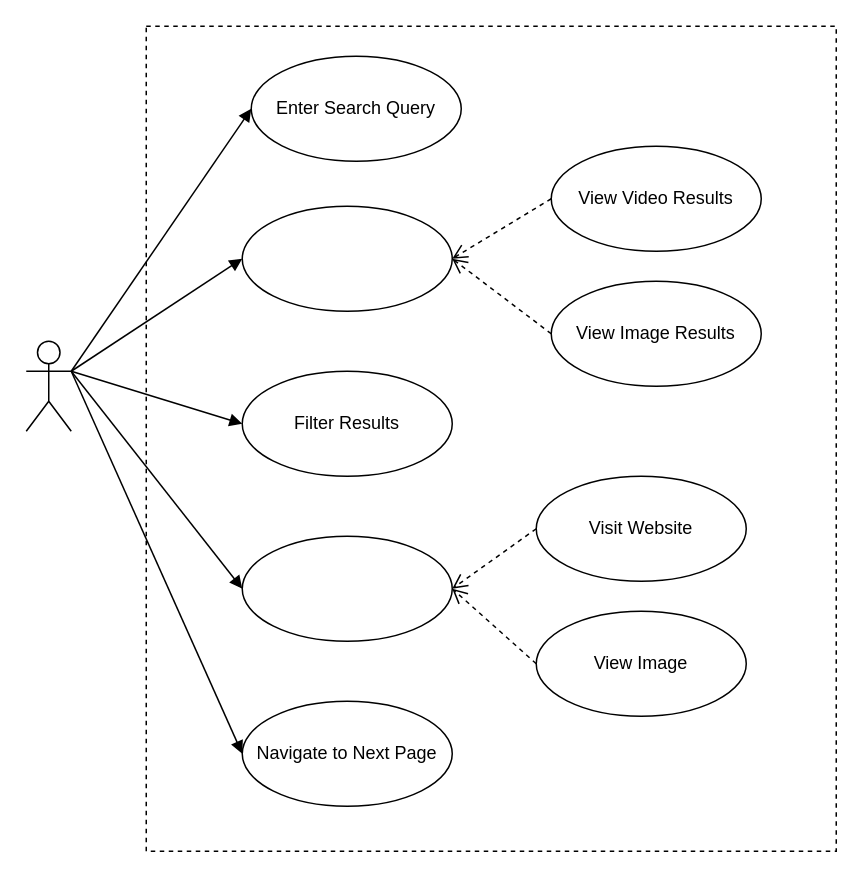
Image size: 863x878. Some labels were removed from this diagram. The centre of each missing label's shape, as x and y in pixels:
Interact With Results: point 346,588
User: point 48,385
View All Search Results: point 346,258
